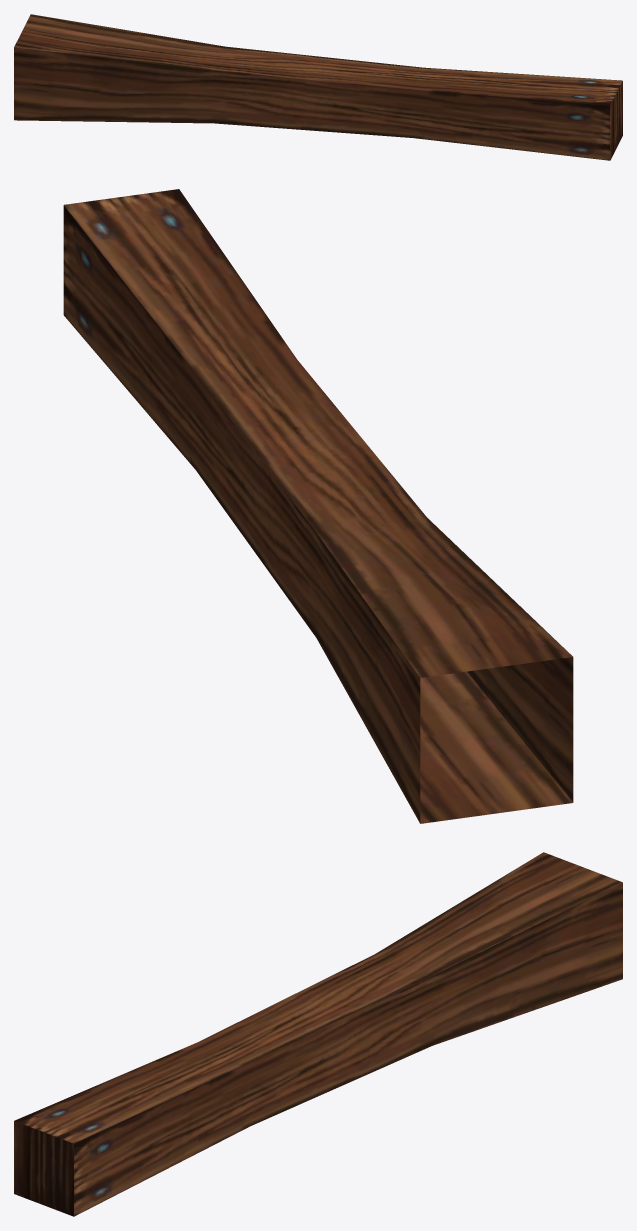
File: OVERHILL_A_01_POST34.fbx
3 views of the same model, one above another, from view 1: azimuth 30°, elevation 25°; view 2: azimuth 150°, elevation 25°; view 3: azimuth 270°, elevation 25° (orthographic). The views are drawn at different scales.
Parts seen in each view (by area): view 1: OVERHILL_A_01_POST34; view 2: OVERHILL_A_01_POST34; view 3: OVERHILL_A_01_POST34.
Boxes of the visible parts, x1=… form: OVERHILL_A_01_POST34: x1=14, y1=14, x2=622, y2=160; OVERHILL_A_01_POST34: x1=63, y1=189, x2=573, y2=823; OVERHILL_A_01_POST34: x1=14, y1=852, x2=622, y2=1216.
Bounding box in the file's own units: 13782 × 2225 × 12684.
1 material, 1 textured.
